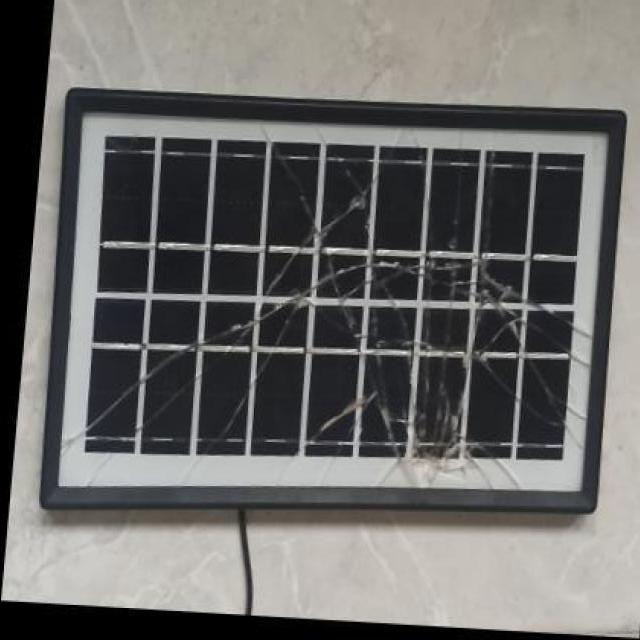cracked: (41, 80, 626, 516)
